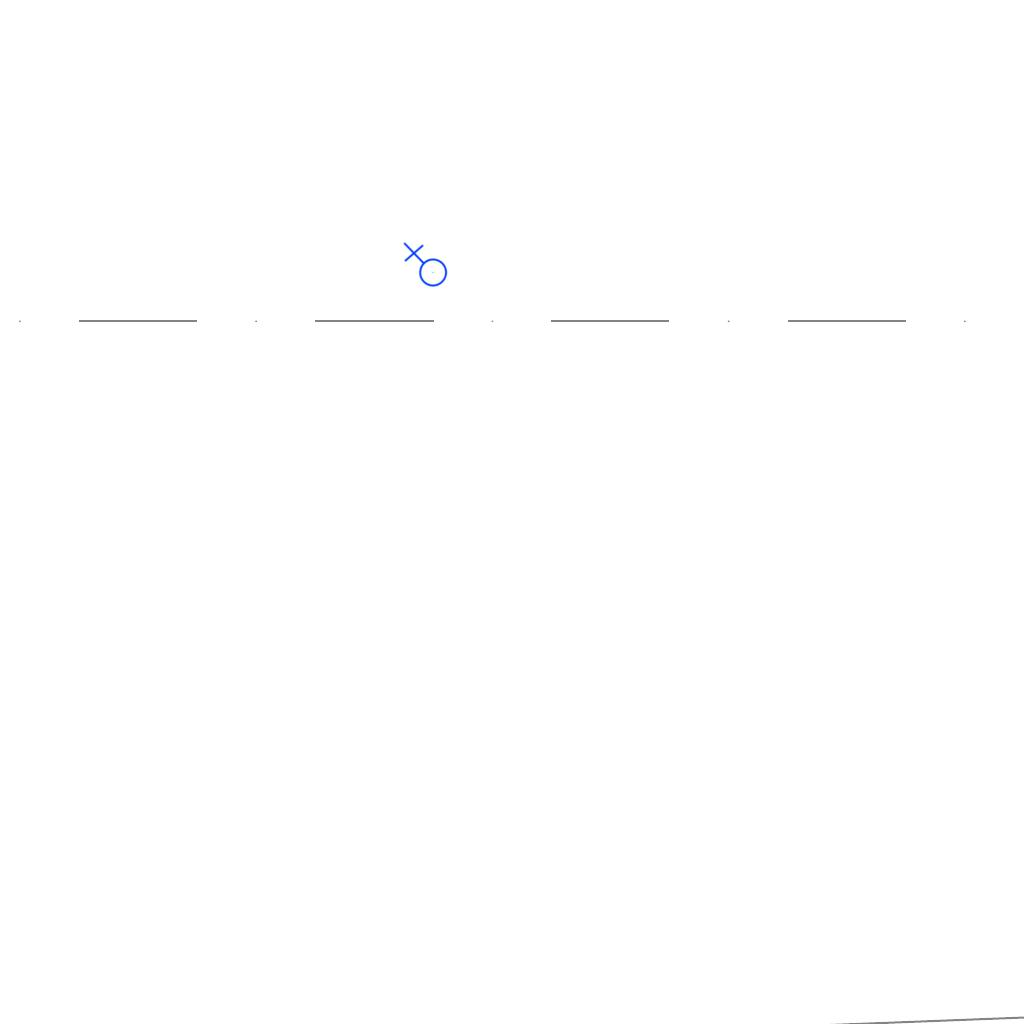Elektroanschluss_allgemein_230V_Geraeteanschlussdose_230V: (401, 242, 448, 291)
